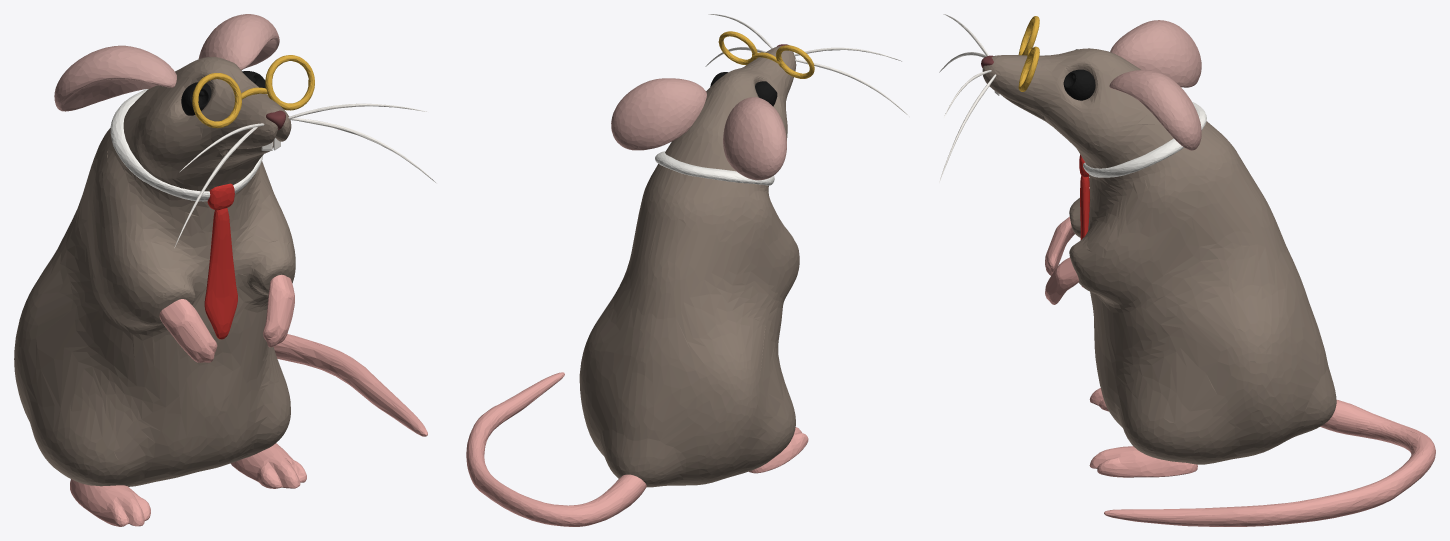
File: rat.glb
3 views of the same model, side by side, from view 1: azimuth 30°, elevation 25°; view 2: azimuth 150°, elevation 25°; view 3: azimuth 270°, elevation 25° (orthographic). The views are drawn at different scales.
Visible parts, largest first — view 1: rat; view 2: rat; view 3: rat.
Part boxes in pixels (bbox=[...]): rat: bbox=[14, 14, 436, 526]; rat: bbox=[466, 14, 909, 526]; rat: bbox=[939, 14, 1435, 526].
Size of the model in its own units: 4.76 by 5.85 by 6.49.
